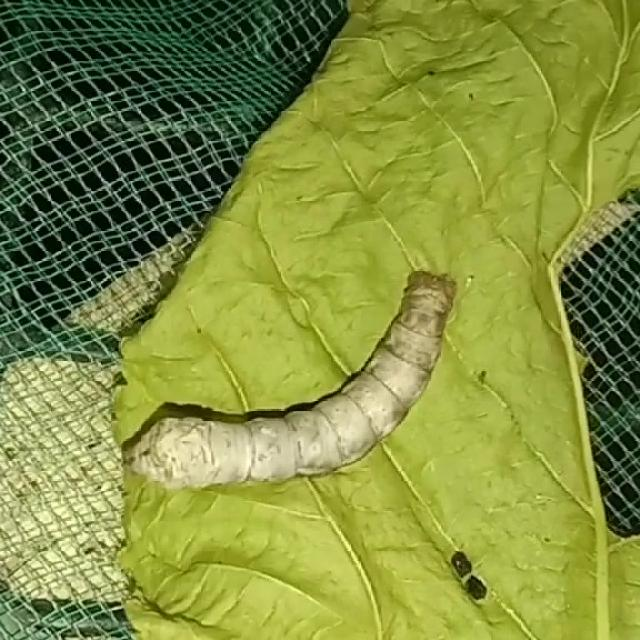Grasserie: (109, 266, 458, 490)
